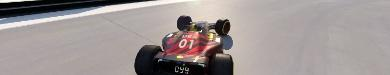Car: (133, 15, 234, 74)
